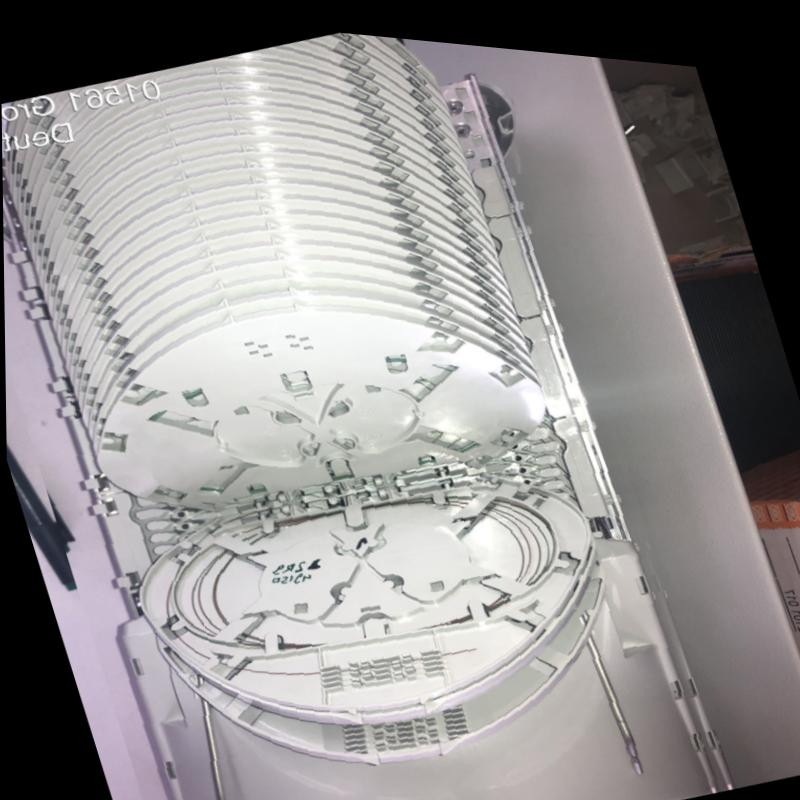NT-Muffen: (1, 26, 721, 800)
